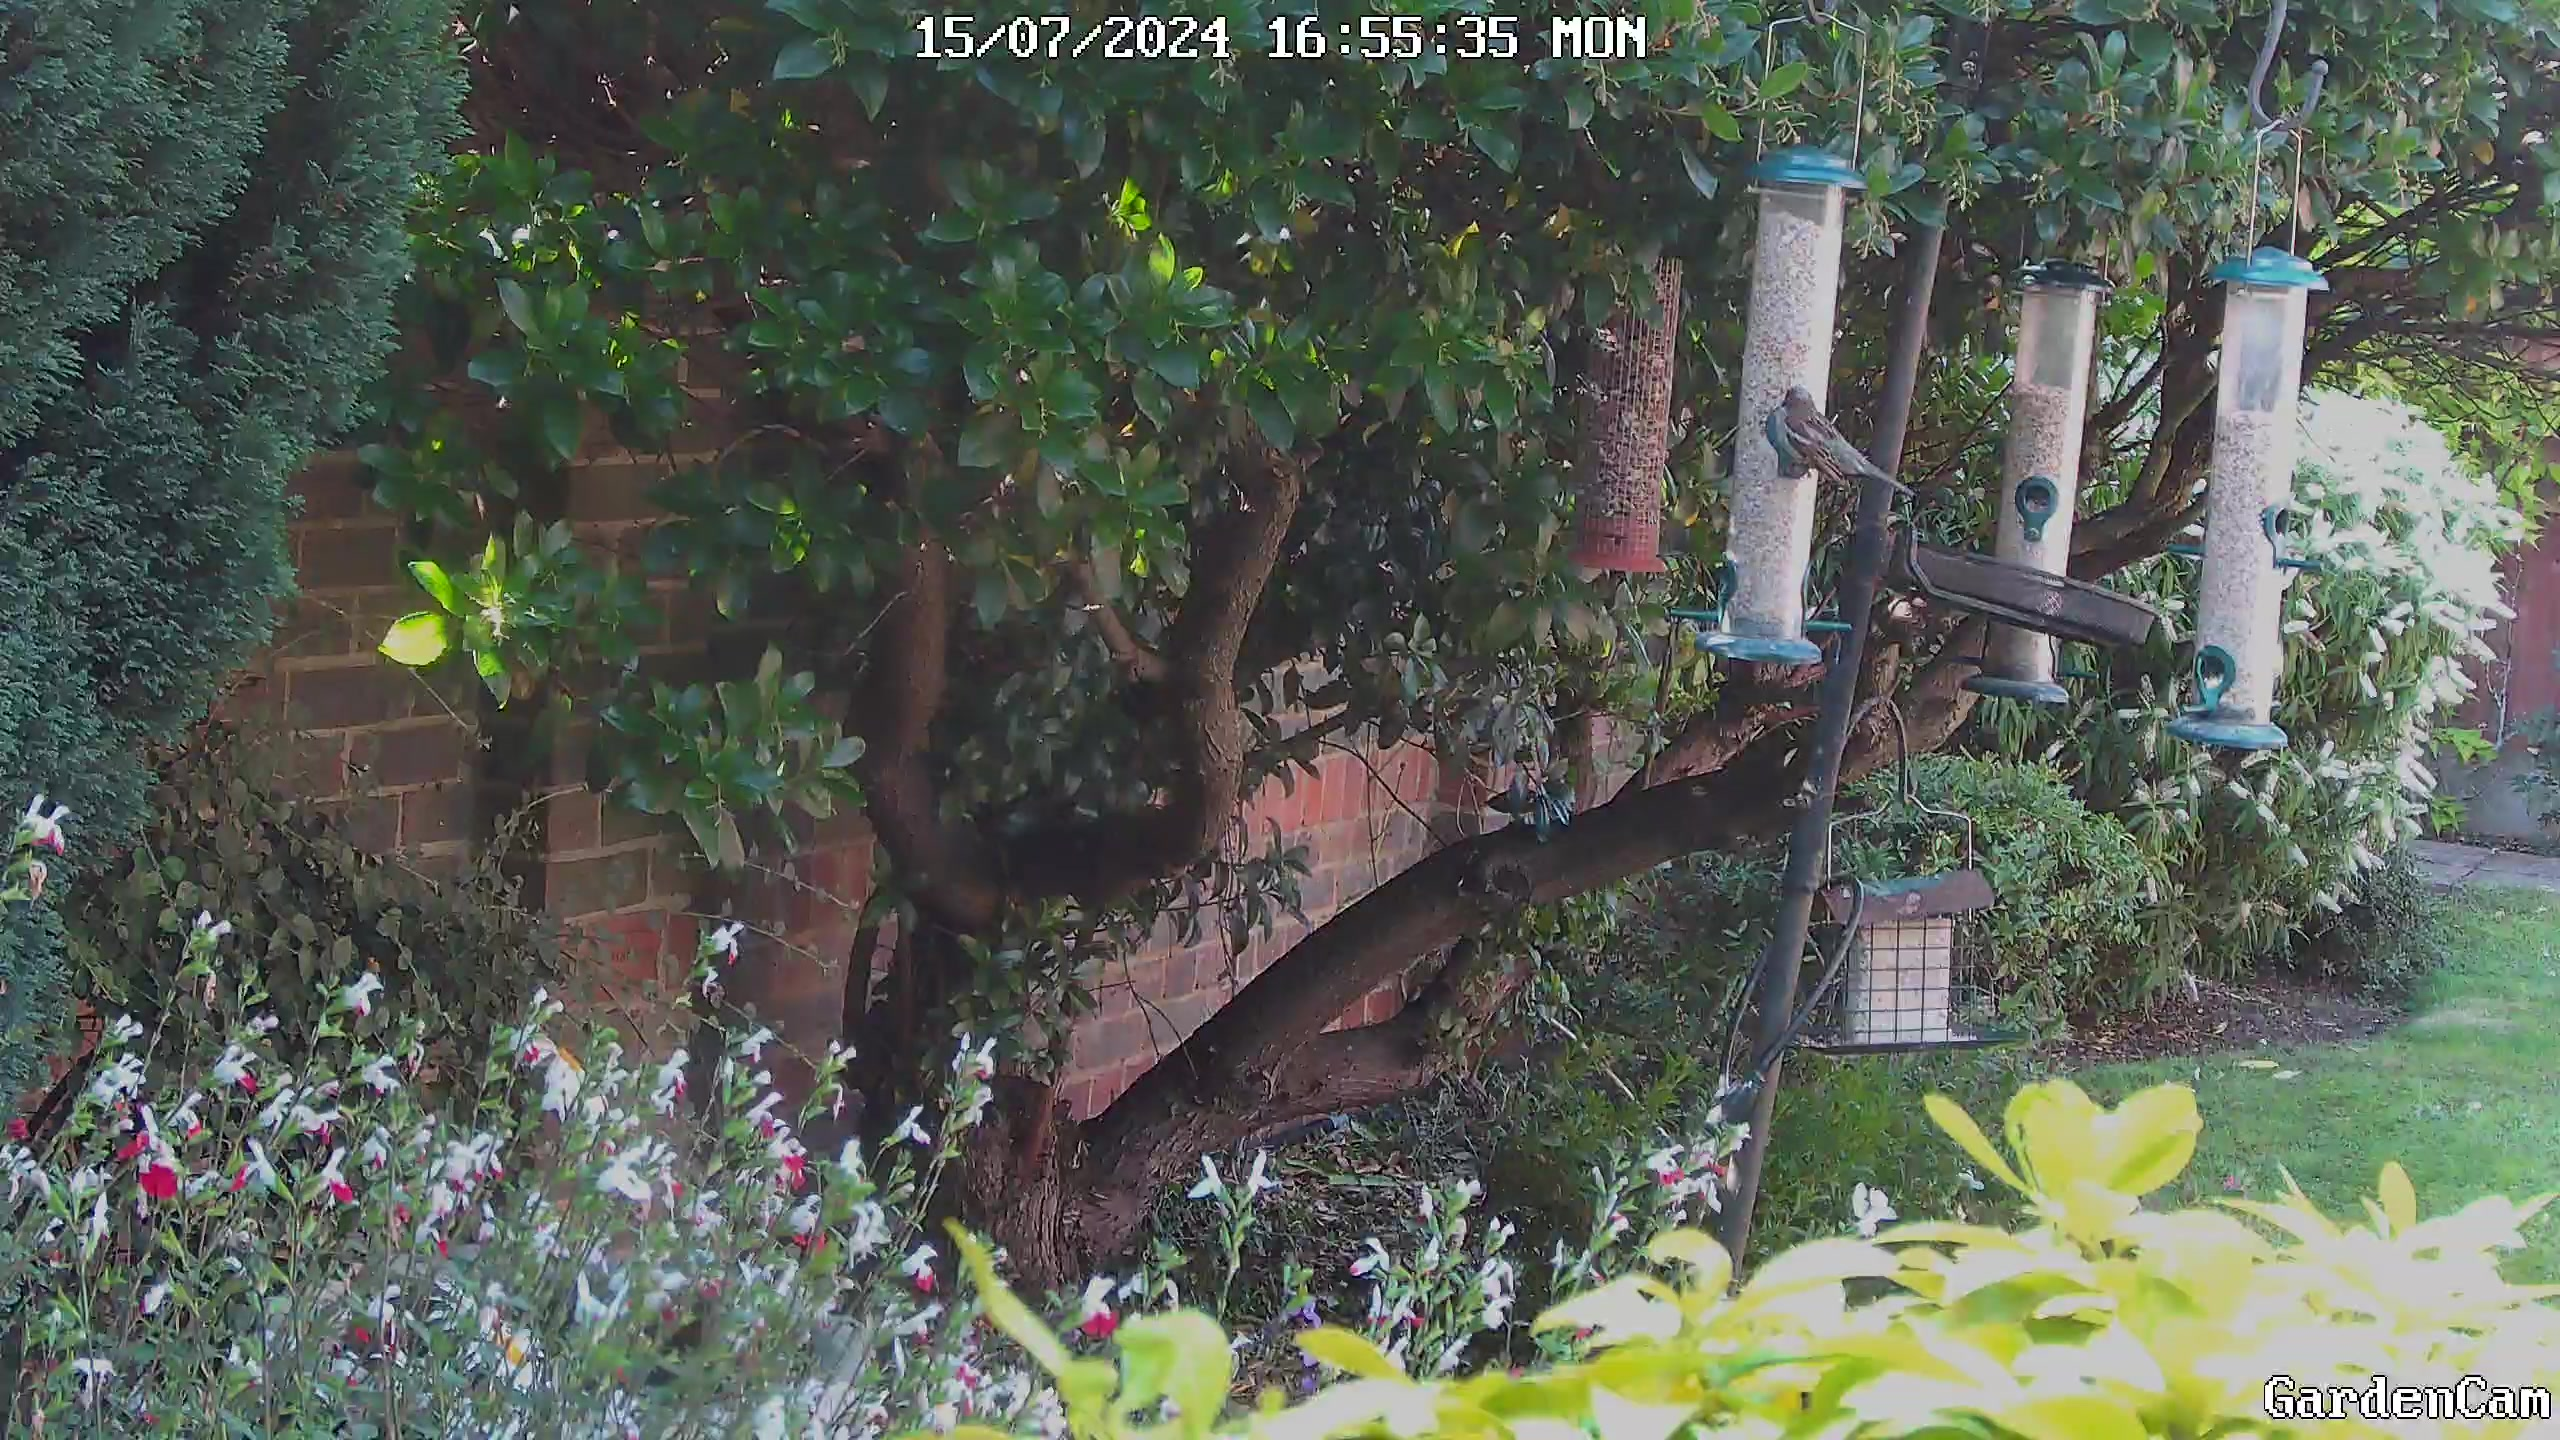House_Sparrow: (1749, 387, 1939, 505)
